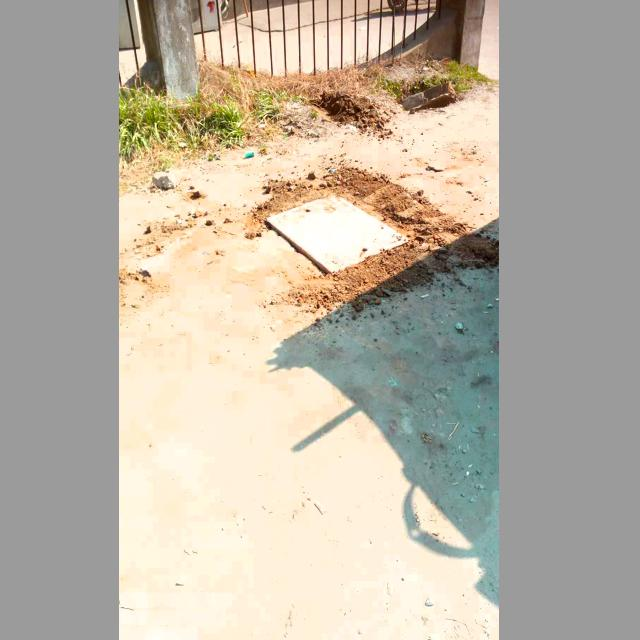good: (265, 194, 407, 271)
